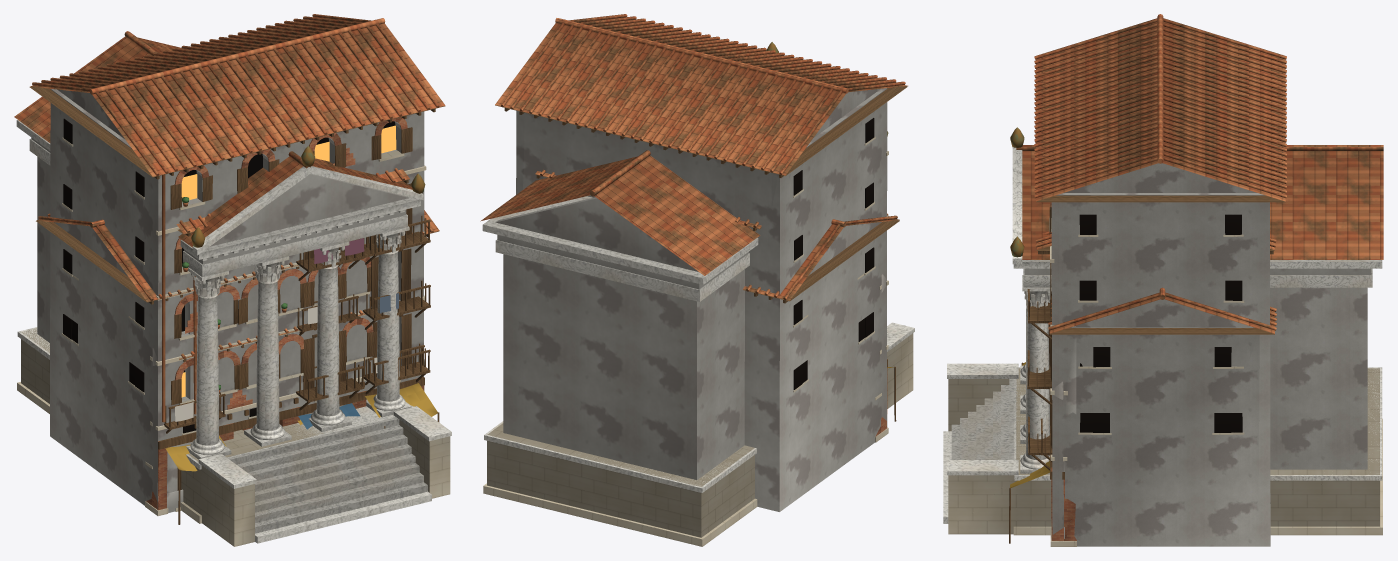
File: kit.glb
The picture shows the model from 3 angles, left to right: view 1: azimuth 30°, elevation 25°; view 2: azimuth 150°, elevation 25°; view 3: azimuth 270°, elevation 25°; orthographic projection.
Parts seen in each view (by area): view 1: insula_c, temple, insula_f, insula_a; view 2: insula_c, temple, insula_f; view 3: insula_c, temple, insula_f.
Part boxes in pixels (box(x1,y1,x2,y2)): insula_c: box(29, 14, 445, 515); temple: box(14, 31, 451, 546); insula_f: box(36, 210, 439, 524); insula_a: box(176, 168, 409, 430); insula_c: box(495, 14, 907, 511); temple: box(480, 42, 914, 546); insula_f: box(743, 213, 899, 452); insula_c: box(1009, 14, 1286, 546); temple: box(943, 127, 1383, 535); insula_f: box(1021, 287, 1276, 546).
Size of the model in its own units: 14.16 by 18.02 by 18.15.
40 materials, 26 textured.
